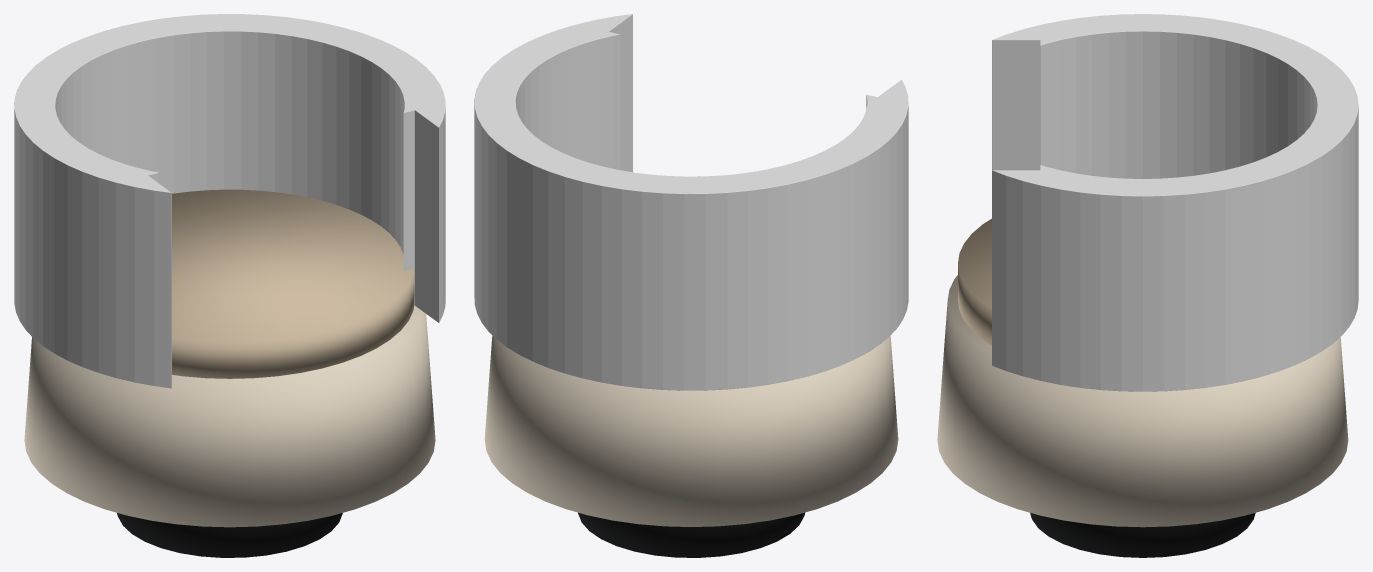
Rendered from bl_armchair_cream.glb.
3 views of the same model, side by side, from view 1: azimuth 30°, elevation 25°; view 2: azimuth 150°, elevation 25°; view 3: azimuth 270°, elevation 25° (orthographic).
Visible parts, largest first — view 1: Cylinder, seatBase, cushion, foot; view 2: Cylinder, seatBase, foot; view 3: Cylinder, seatBase, foot, cushion.
Boxes of the visible parts, bbox=[...] form: Cylinder: bbox=[14, 14, 445, 388]; seatBase: bbox=[24, 305, 435, 527]; cushion: bbox=[172, 189, 414, 378]; foot: bbox=[117, 513, 342, 557]; Cylinder: bbox=[474, 14, 908, 390]; seatBase: bbox=[484, 335, 898, 526]; foot: bbox=[578, 512, 804, 557]; Cylinder: bbox=[992, 14, 1358, 391]; seatBase: bbox=[937, 275, 1348, 527]; foot: bbox=[1030, 513, 1255, 557]; cushion: bbox=[958, 218, 991, 345].
Size of the model in its own units: 0.84 by 0.87 by 0.82.
